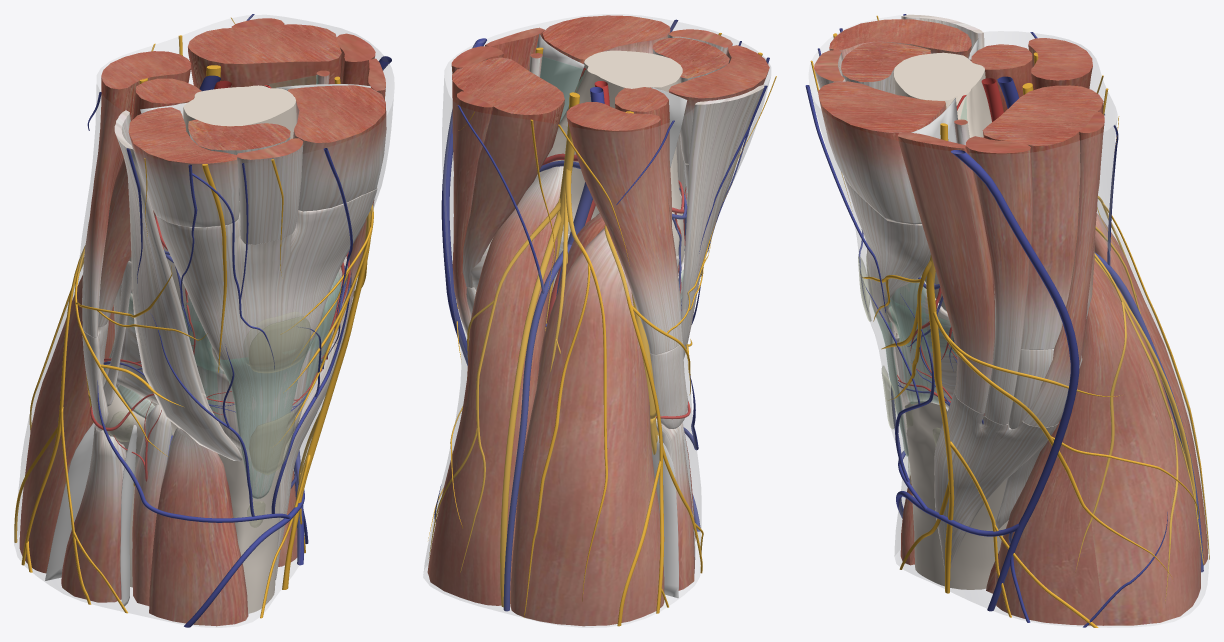
File: open3dmodel-zone-knee.glb
The picture shows the model from 3 angles, left to right: view 1: azimuth 30°, elevation 25°; view 2: azimuth 150°, elevation 25°; view 3: azimuth 270°, elevation 25°; orthographic projection. The views are drawn at different scales.
Visible parts, largest first — view 1: Crural fascia.r, Fascia lata.r, Quadriceps common tendon + patellar ligament.r, Tibialis anterior muscle.r, Iliotibial tract.r, Vastus medialis muscle.r, Lateral head of gastrocnemius.r, Vastus lateralis muscle.r, Semimembranosus muscle.r, Long head of biceps femoris.r, Fibularis longus muscle.r, Articular capsule of knee joint.r (+30 smaller); view 2: Crural fascia.r, Lateral head of gastrocnemius.r, Fascia lata.r, Medial head of gastrocnemius.r, Long head of biceps femoris.r, Semimembranosus muscle.r, Iliotibial tract.r, Femur.r, Semitendinosus muscle.r, Vastus medialis muscle.r, Lateral sural cutaneous nerve.r, Vastus lateralis muscle.r (+25 smaller); view 3: Crural fascia.r, Fascia lata.r, Medial head of gastrocnemius.r, Sartorius muscle.r, Semimembranosus muscle.r, Gracilis muscle.r, Vastus medialis muscle.r, Pes anserinus common tendon.r, Tibia.r, Semitendinosus muscle.r, Saphenous nerve (Medial crural cutaneous branches).r, Quadriceps common tendon + patellar ligament.r (+24 smaller).
Part boxes in pixels (left/top/right/bottom): Crural fascia.r: left=14, top=231, right=338, bottom=627; Fascia lata.r: left=80, top=15, right=393, bottom=406; Quadriceps common tendon + patellar ligament.r: left=155, top=188, right=377, bottom=498; Tibialis anterior muscle.r: left=149, top=427, right=248, bottom=626; Iliotibial tract.r: left=114, top=110, right=242, bottom=461; Vastus medialis muscle.r: left=287, top=85, right=386, bottom=211; Lateral head of gastrocnemius.r: left=19, top=275, right=114, bottom=573; Vastus lateralis muscle.r: left=128, top=107, right=239, bottom=227; Semimembranosus muscle.r: left=188, top=24, right=341, bottom=88; Long head of biceps femoris.r: left=82, top=51, right=191, bottom=337; Fibularis longus muscle.r: left=61, top=425, right=126, bottom=602; Articular capsule of knee joint.r: left=103, top=256, right=347, bottom=448; Crural fascia.r: left=423, top=227, right=701, bottom=627; Lateral head of gastrocnemius.r: left=510, top=228, right=664, bottom=626; Fascia lata.r: left=442, top=14, right=770, bottom=308; Medial head of gastrocnemius.r: left=427, top=166, right=563, bottom=605; Long head of biceps femoris.r: left=566, top=102, right=682, bottom=354; Semimembranosus muscle.r: left=452, top=57, right=564, bottom=287; Iliotibial tract.r: left=681, top=84, right=764, bottom=358; Femur.r: left=536, top=50, right=684, bottom=271; Semitendinosus muscle.r: left=452, top=91, right=493, bottom=339; Vastus medialis muscle.r: left=541, top=15, right=670, bottom=107; Lateral sural cutaneous nerve.r: left=604, top=188, right=729, bottom=626; Vastus lateralis muscle.r: left=668, top=45, right=769, bottom=164; Crural fascia.r: left=879, top=200, right=1208, bottom=627; Fascia lata.r: left=809, top=15, right=1117, bottom=394; Medial head of gastrocnemius.r: left=994, top=260, right=1200, bottom=625; Sartorius muscle.r: left=897, top=132, right=994, bottom=413; Semimembranosus muscle.r: left=982, top=85, right=1103, bottom=349; Gracilis muscle.r: left=966, top=136, right=1033, bottom=424; Vastus medialis muscle.r: left=818, top=81, right=946, bottom=224; Pes anserinus common tendon.r: left=934, top=390, right=1058, bottom=570; Tibia.r: left=905, top=401, right=1008, bottom=589; Semitendinosus muscle.r: left=1023, top=111, right=1104, bottom=427; Saphenous nerve (Medial crural cutaneous branches).r: left=899, top=255, right=1198, bottom=627; Quadriceps common tendon + patellar ligament.r: left=844, top=177, right=930, bottom=456.
Size of the model in its own units: 0.1199 by 0.1943 by 0.1446.
Materials: 20 (5 with a texture image).
